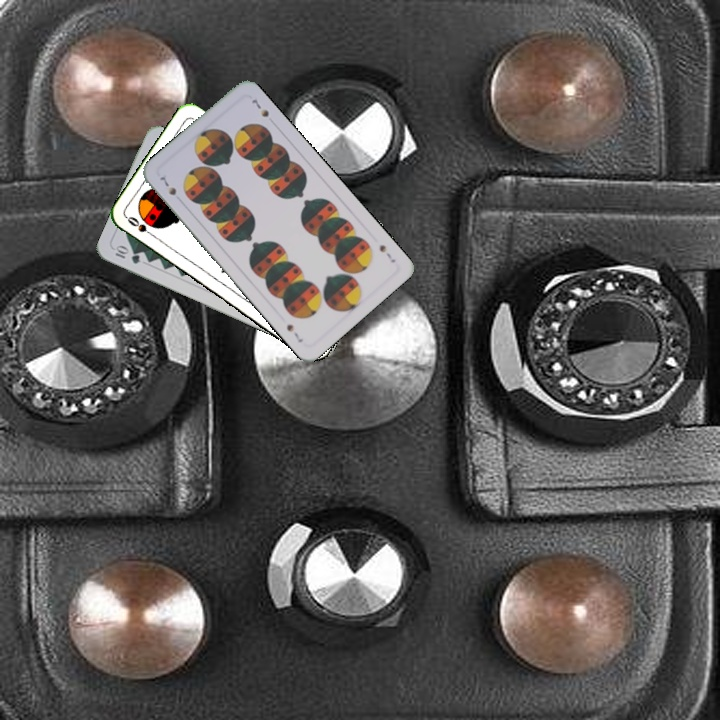G10: (110, 242, 143, 267)
S7: (156, 170, 179, 198), (375, 241, 398, 265)
SO: (123, 212, 159, 241)
